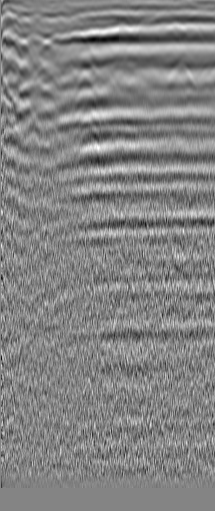오수: (25, 29, 45, 49)
우수: (170, 49, 190, 69)
